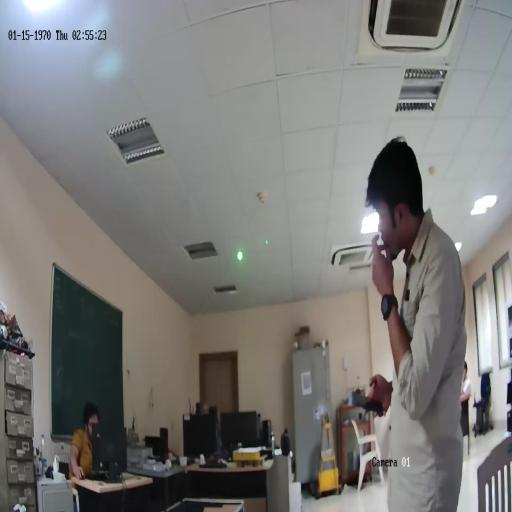laser: (236, 246, 245, 266)
